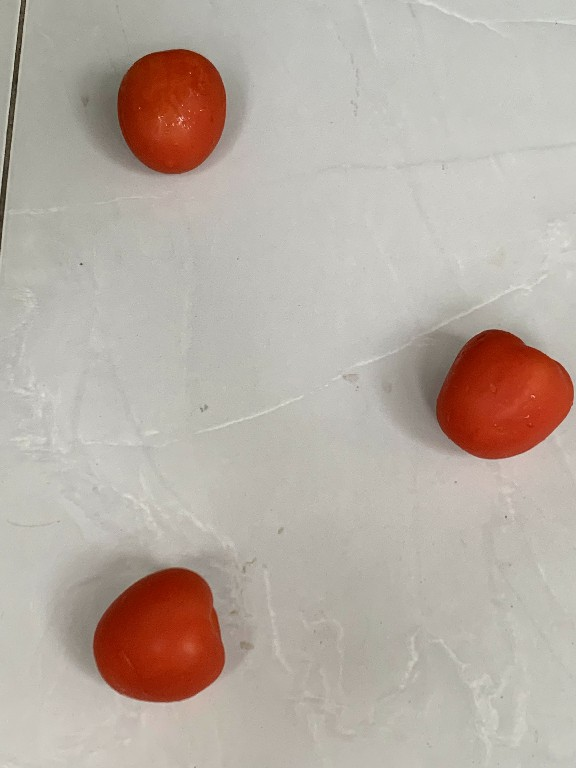OK: (77, 558, 235, 709), (430, 319, 576, 461), (108, 44, 227, 179)
